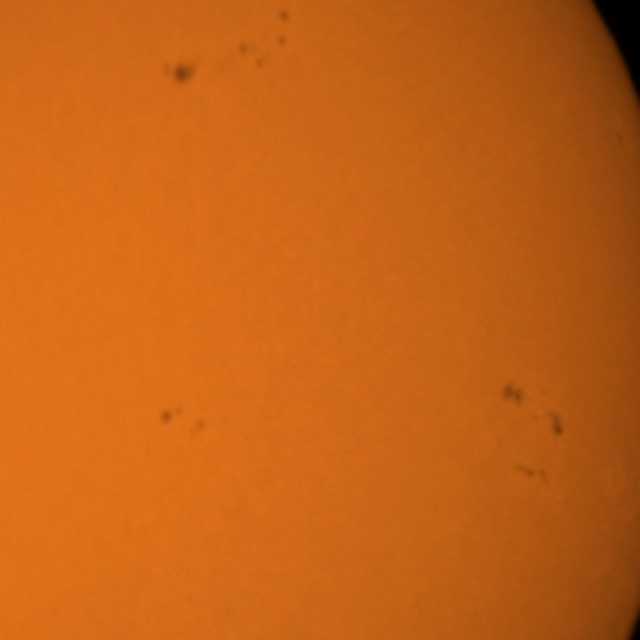sunspot: (500, 381, 563, 428), (234, 33, 286, 71), (157, 403, 210, 434), (159, 57, 198, 90), (530, 407, 566, 440), (274, 4, 292, 50), (512, 462, 548, 484), (156, 403, 186, 428), (499, 382, 526, 409), (275, 5, 293, 27), (275, 32, 289, 52), (614, 130, 626, 149)
